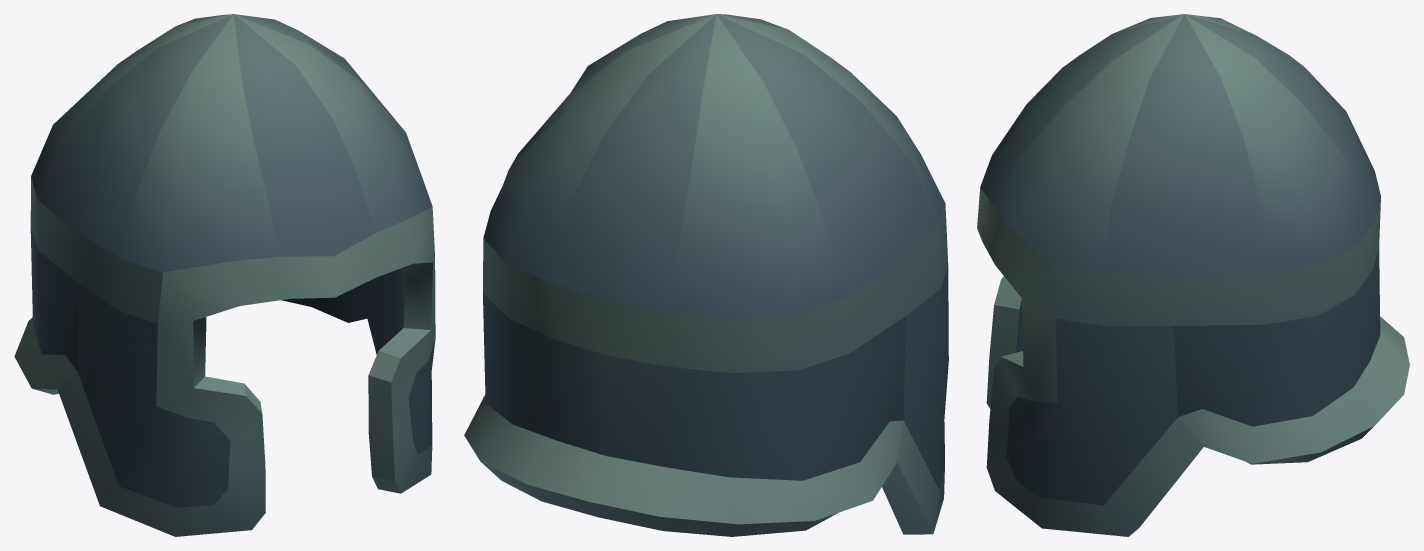
File: helm.fbx
The picture shows the model from 3 angles, left to right: view 1: azimuth 30°, elevation 25°; view 2: azimuth 150°, elevation 25°; view 3: azimuth 270°, elevation 25°; orthographic projection. The views are drawn at different scales.
Parts seen in each view (by area): view 1: helmet_soldier; view 2: helmet_soldier; view 3: helmet_soldier.
Boxes of the visible parts, <box> form: helmet_soldier: <box>14,14,435,536</box>; helmet_soldier: <box>464,14,948,536</box>; helmet_soldier: <box>977,14,1409,536</box>.
Size of the model in its own units: 0.566 by 0.7055 by 0.6141.
1 material, 1 textured.
